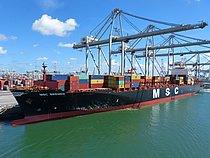Ship: (8, 60, 208, 129)
